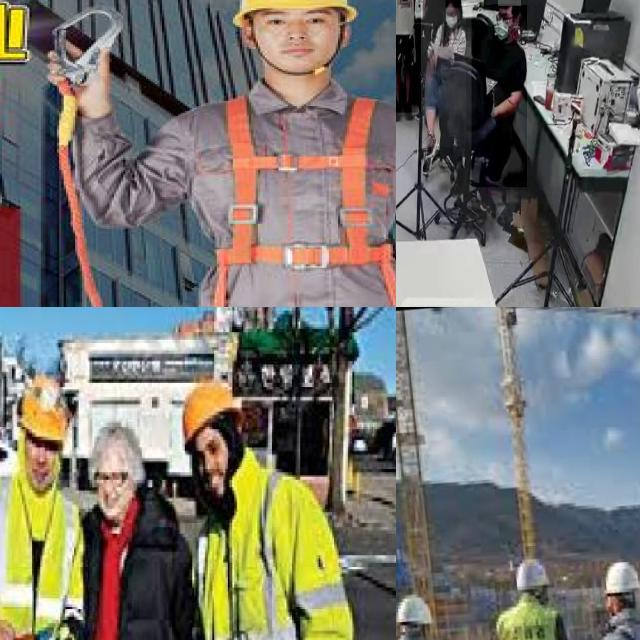Harness: (201, 80, 396, 307)
face_mask: (493, 4, 515, 47), (446, 8, 458, 34)
head_nohelmet: (498, 0, 521, 6), (445, 0, 462, 8)
person: (472, 5, 528, 188), (423, 0, 466, 148), (396, 0, 421, 113)
shoes: (401, 97, 417, 124), (396, 97, 402, 125)
